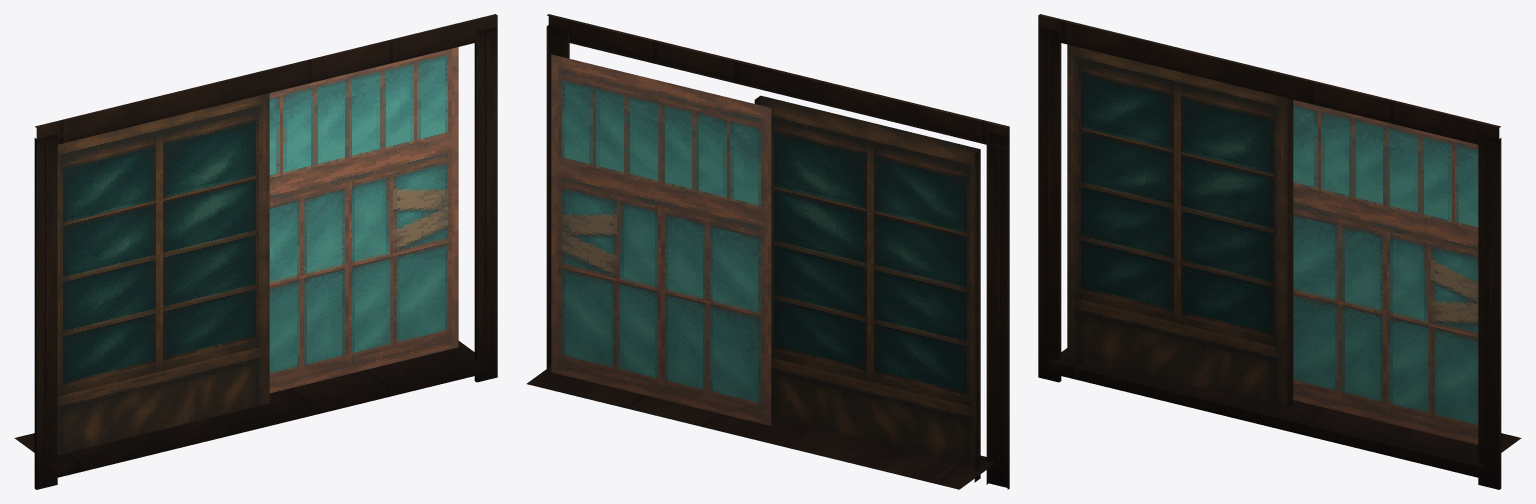
The model's file is prop_sash-12-9-3.glb.
The picture shows the model from 3 angles, left to right: view 1: azimuth 30°, elevation 25°; view 2: azimuth 150°, elevation 25°; view 3: azimuth 330°, elevation 25°; orthographic projection.
Parts seen in each view (by area): view 1: prop_sash-12-9-3; view 2: prop_sash-12-9-3; view 3: prop_sash-12-9-3.
Part boxes in pixels (x1=…): prop_sash-12-9-3: x1=14, y1=14, x2=497, y2=489; prop_sash-12-9-3: x1=527, y1=14, x2=1009, y2=489; prop_sash-12-9-3: x1=1038, y1=14, x2=1521, y2=489.
Size of the model in its own units: 1.32 by 0.99 by 0.2.
Materials: 3 (3 with a texture image).
